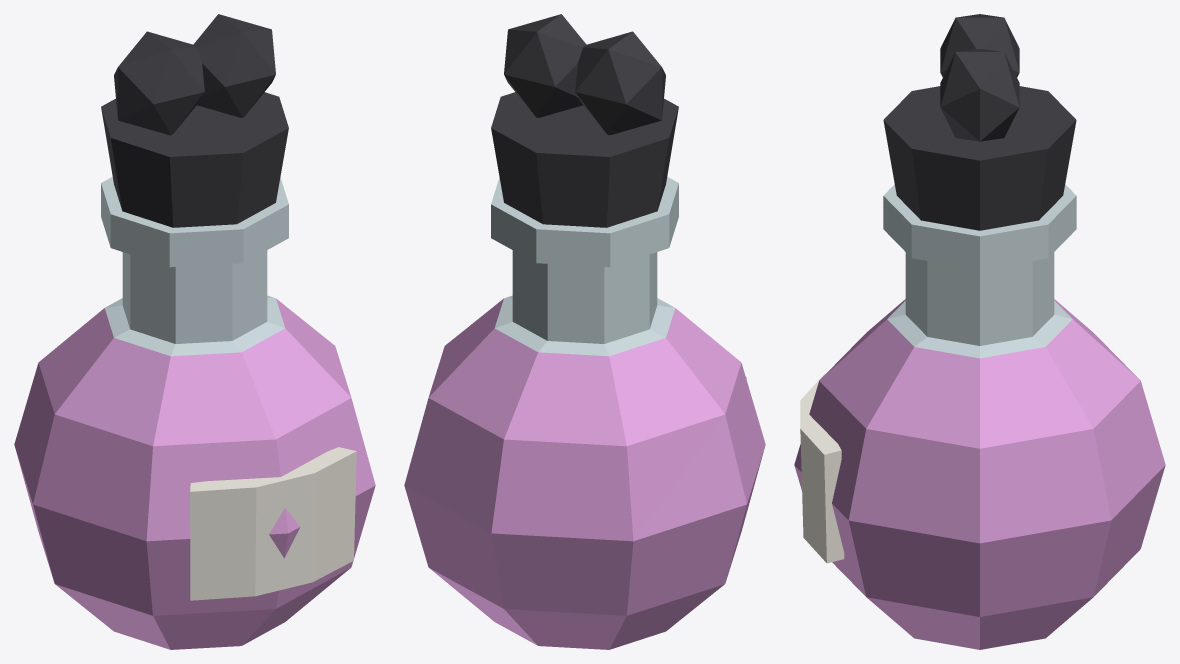
Rendered from vfem2_draught_fertility.obj.
3 renders of one model, left to right at view 1: azimuth 30°, elevation 25°; view 2: azimuth 150°, elevation 25°; view 3: azimuth 270°, elevation 25°, orthographic.
Visible parts, largest first — view 1: vfem2_draught_fertility; view 2: vfem2_draught_fertility; view 3: vfem2_draught_fertility.
Boxes of the visible parts, box(x1,y1,x2,y2) form: vfem2_draught_fertility: box(14, 14, 375, 649); vfem2_draught_fertility: box(404, 14, 765, 649); vfem2_draught_fertility: box(794, 14, 1165, 649).
Bounding box in the file's own units: 0.2 × 0.3555 × 0.2.
